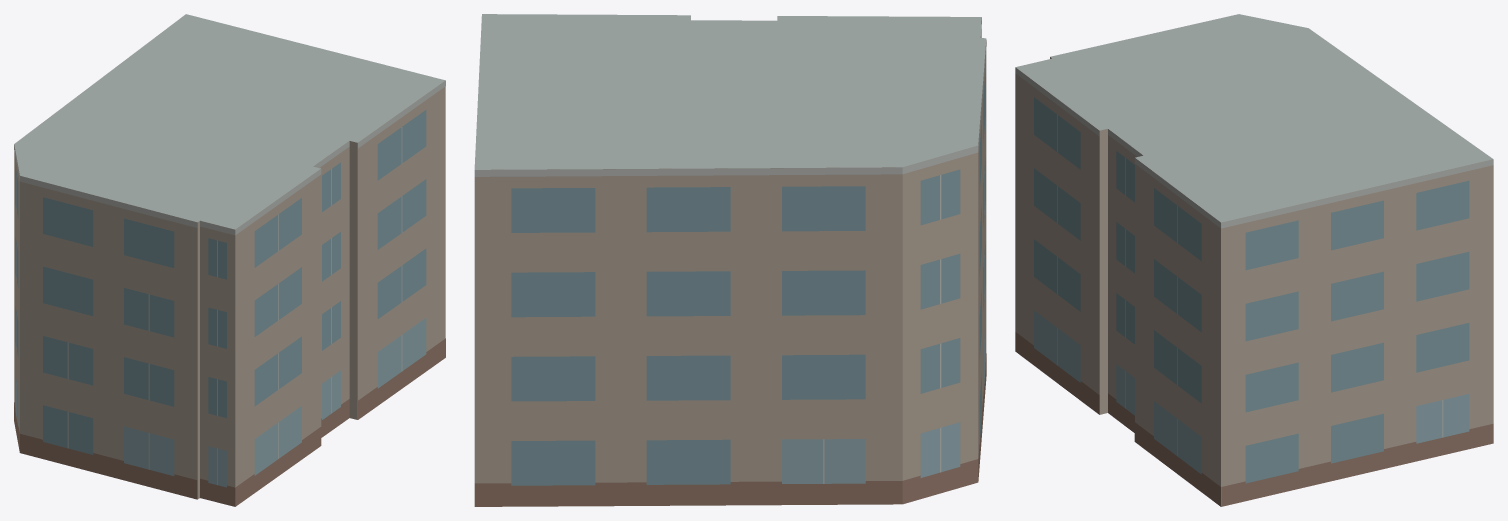
File: survey-upis-32668174.glb
3 views of the same model, side by side, from view 1: azimuth 30°, elevation 25°; view 2: azimuth 150°, elevation 25°; view 3: azimuth 270°, elevation 25° (orthographic). The views are drawn at different scales.
Visible parts, largest first — view 1: survey-upis-32668174.tmp; view 2: survey-upis-32668174.tmp; view 3: survey-upis-32668174.tmp.
Boxes of the visible parts, box(x1,y1,x2,y2) form: survey-upis-32668174.tmp: box(14, 14, 445, 506); survey-upis-32668174.tmp: box(474, 14, 986, 506); survey-upis-32668174.tmp: box(1015, 14, 1493, 506).
Bounding box in the file's own units: 18.43 × 11.7 × 17.85.
